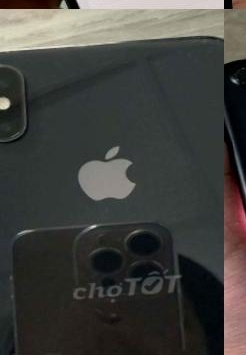scratch: (93, 198, 121, 214), (230, 60, 246, 84), (214, 287, 224, 316)
